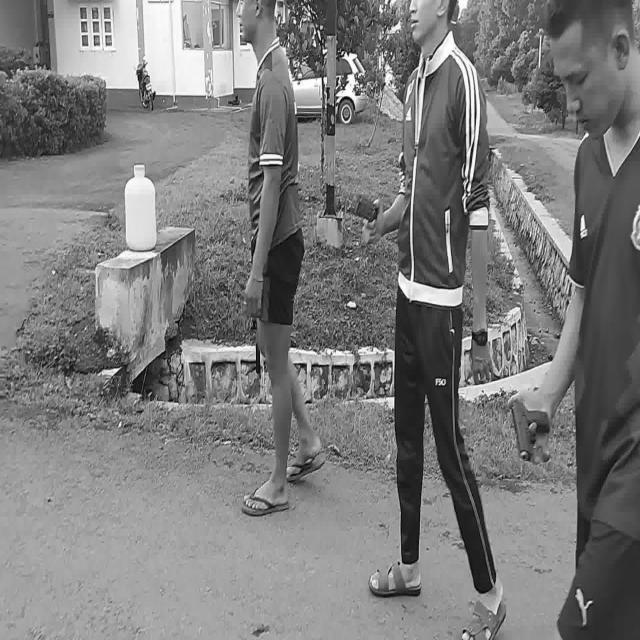gun: (512, 402, 550, 460), (251, 240, 261, 374)
